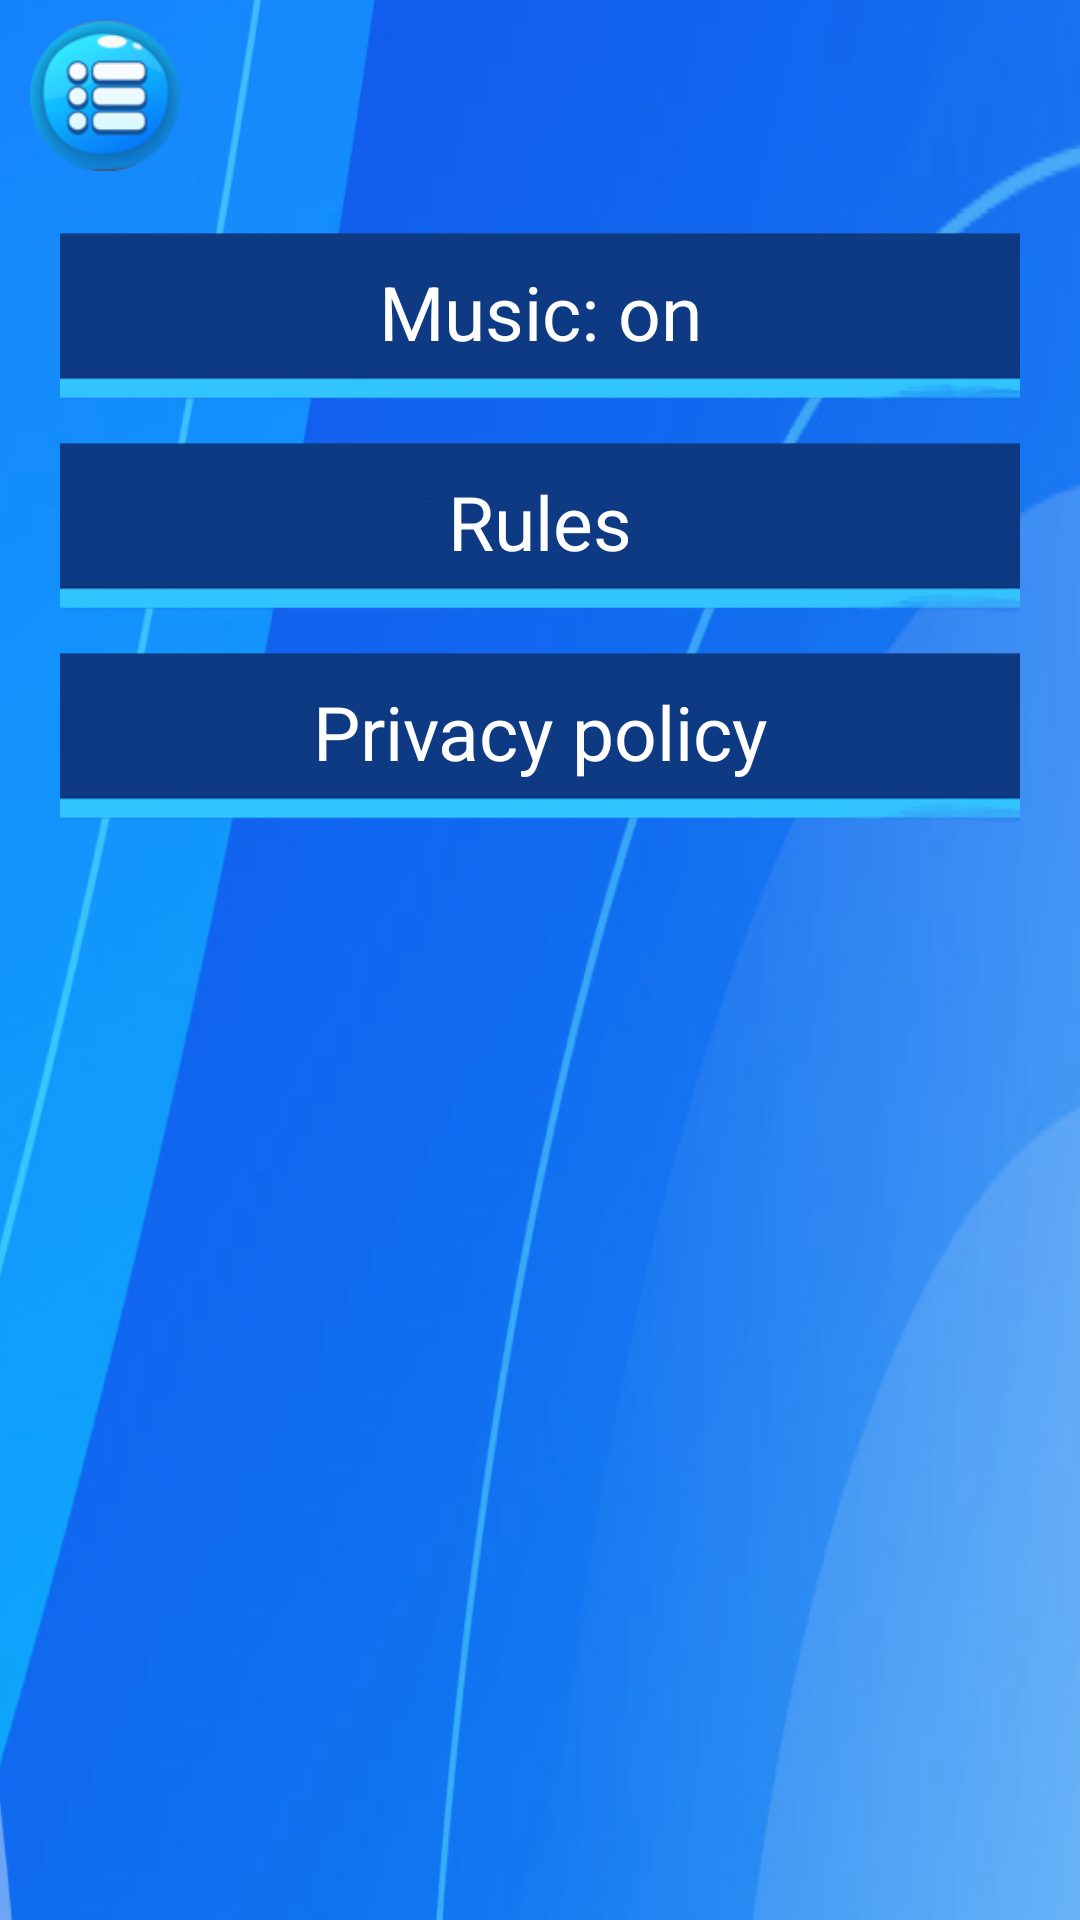

Where to tap for icons on this 1080 x 1920 app screen, as (x=x, y=y):
menu: (x=105, y=96)
